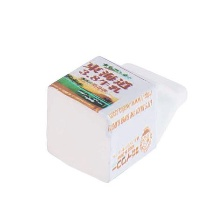carton: (27, 54, 195, 190)
